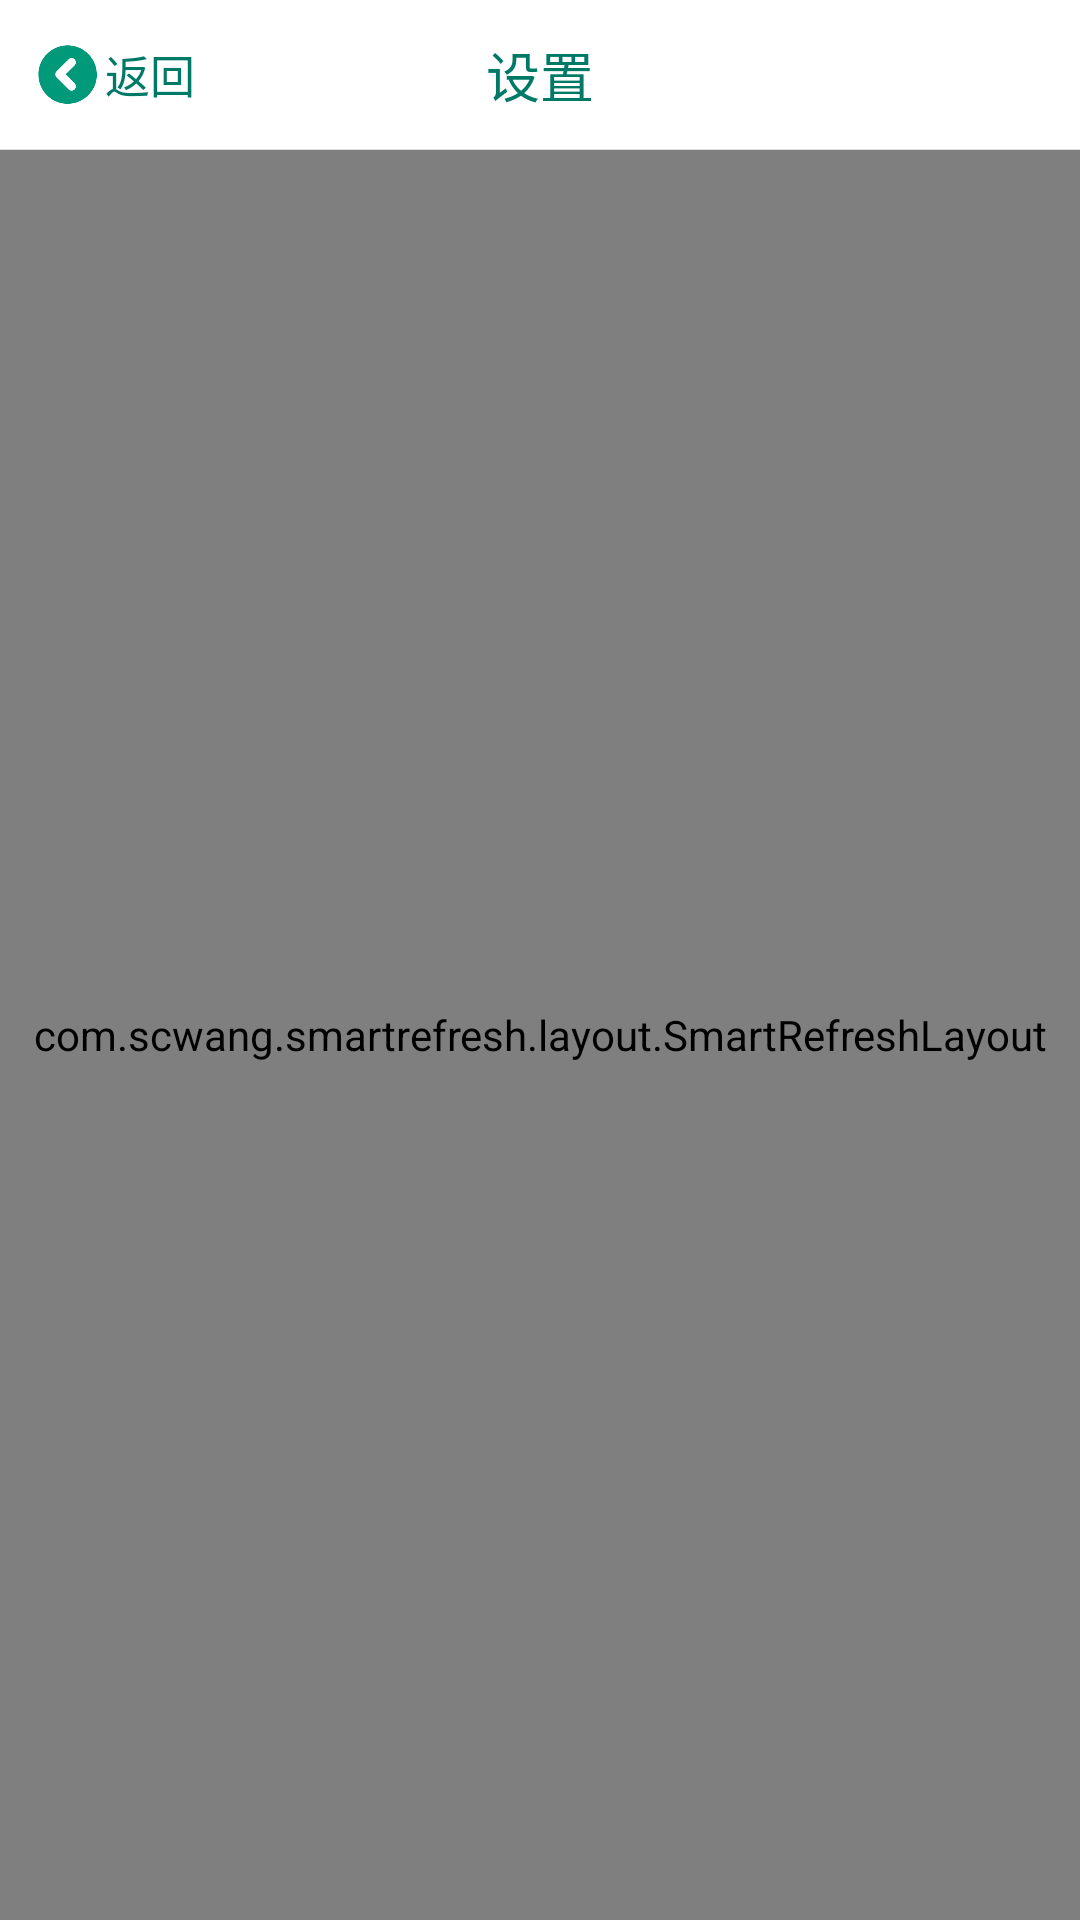

Screen size 1080px x 1920px. Icon name, then its box in pixels as (x1, y1, x2, y2):
arrow left: (38, 45, 97, 104)
